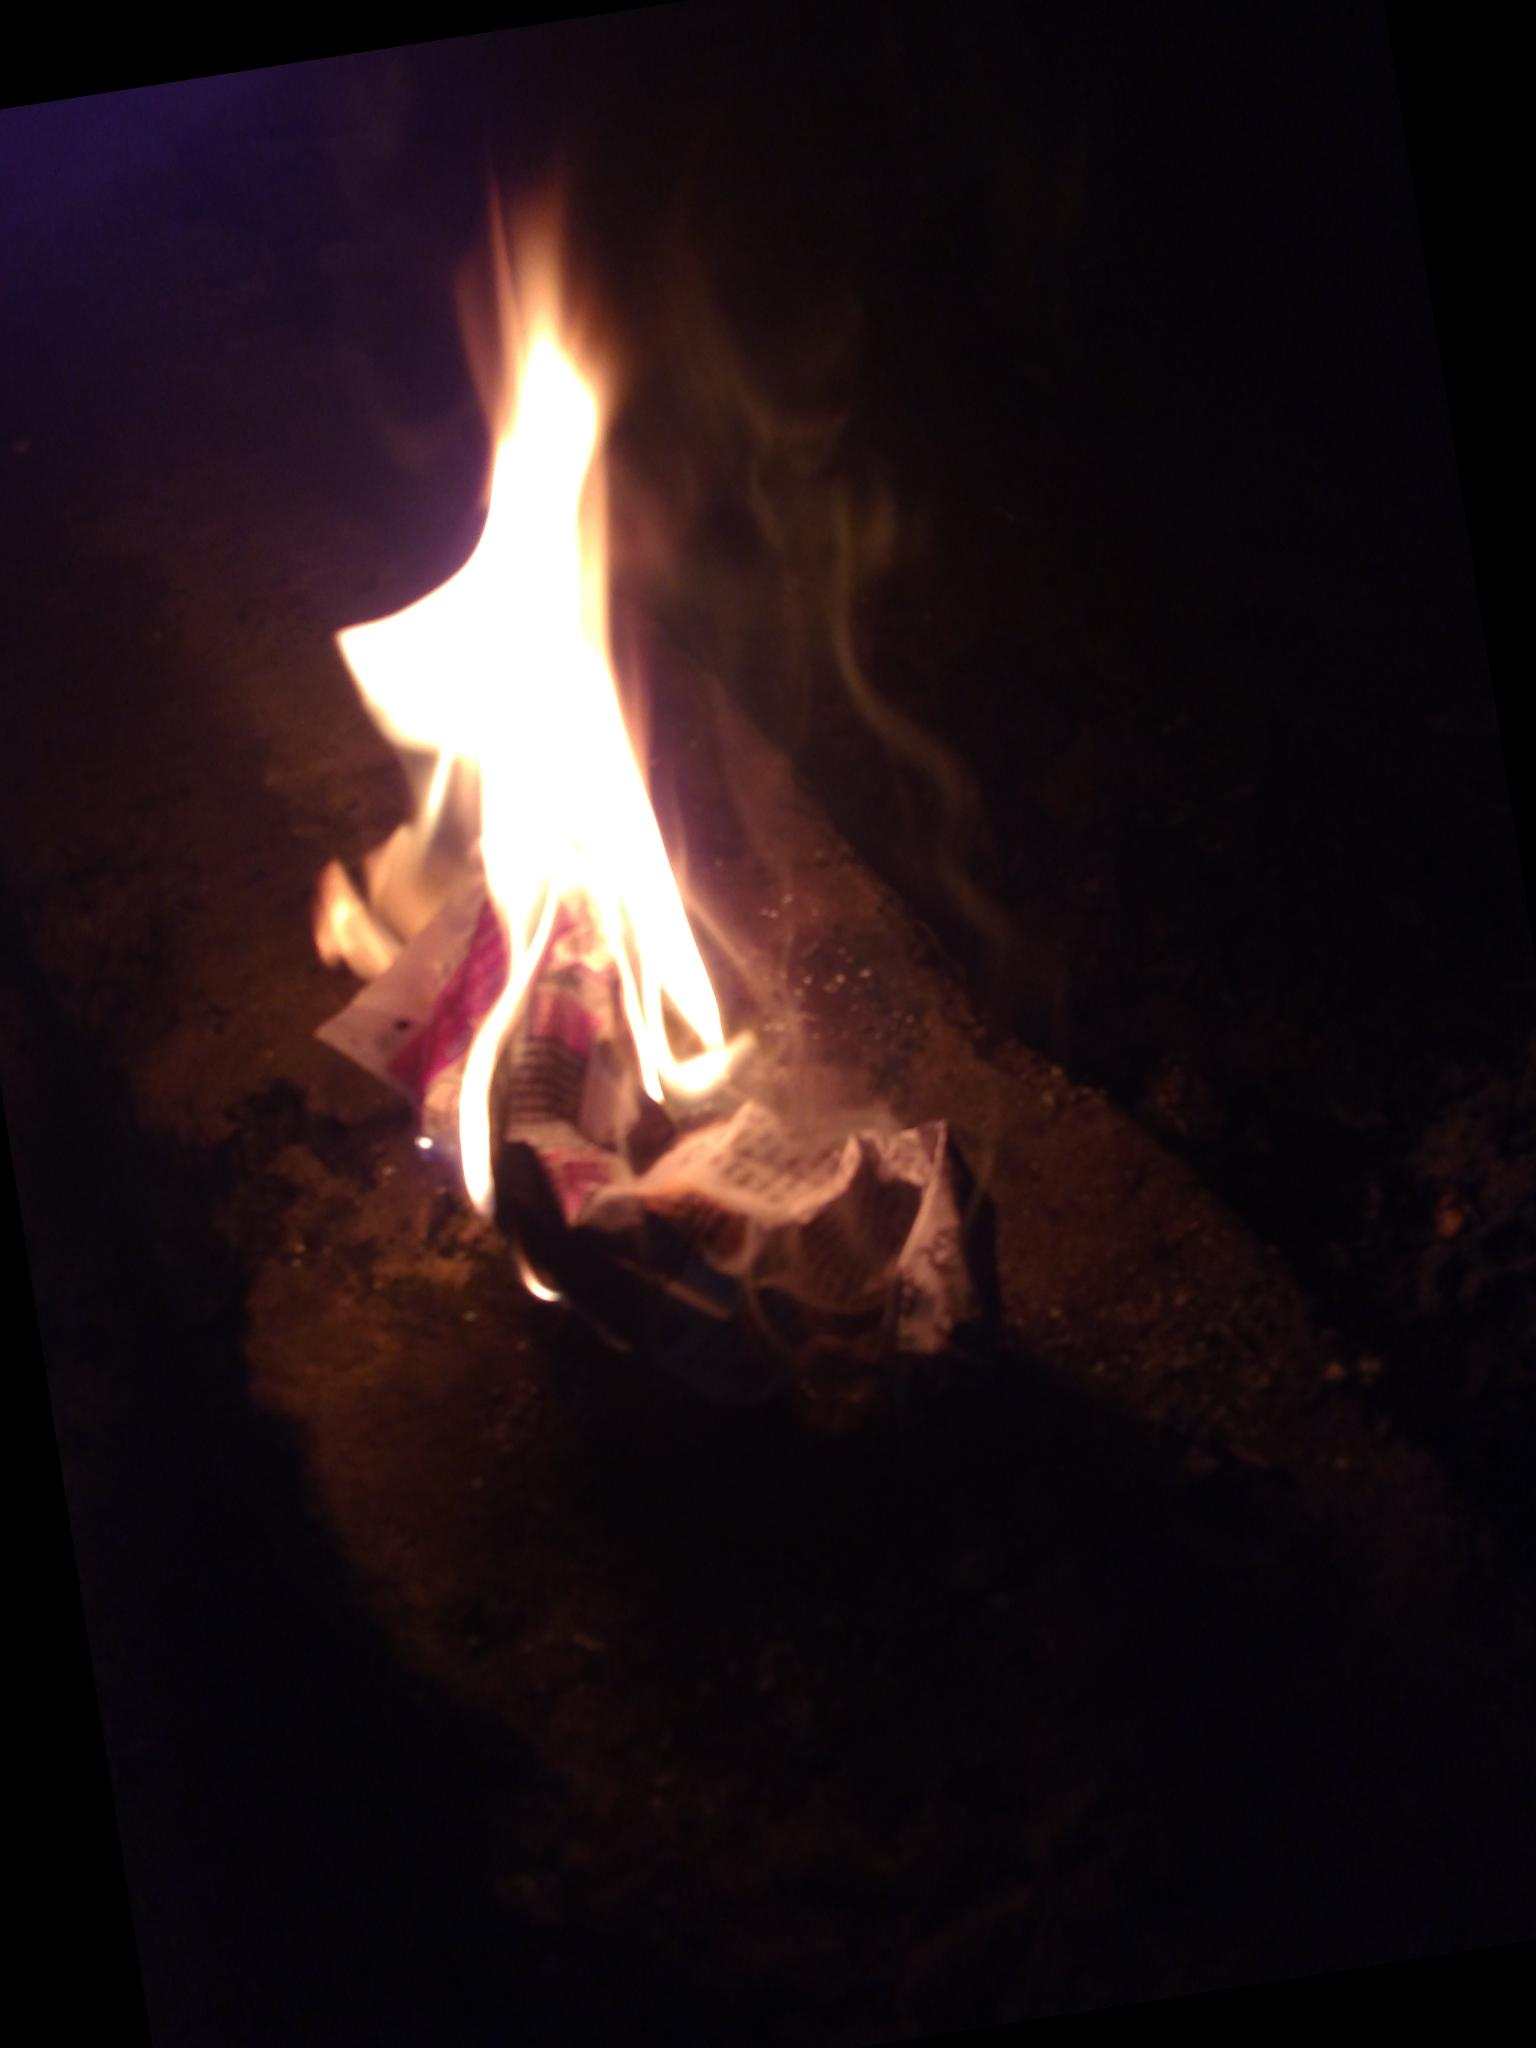Fire: (190, 161, 795, 1324)
